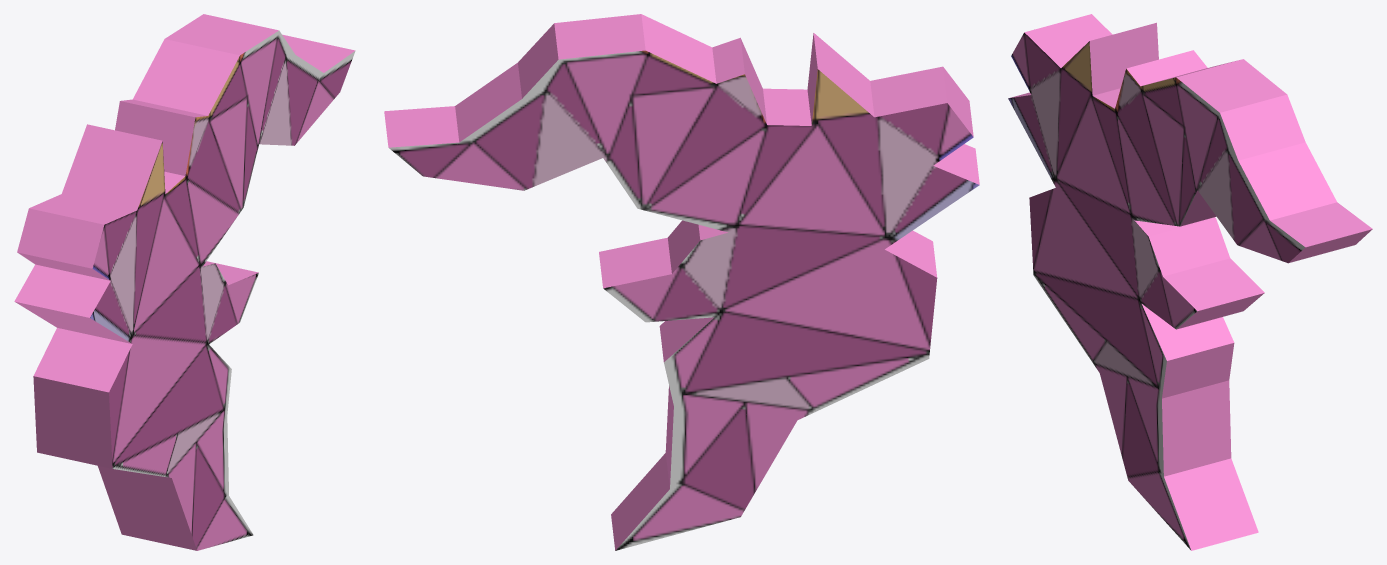
File: mosaicPink.FBX
The picture shows the model from 3 angles, left to right: view 1: azimuth 30°, elevation 25°; view 2: azimuth 150°, elevation 25°; view 3: azimuth 270°, elevation 25°; orthographic projection. The views are drawn at different scales.
Visible parts, largest first — view 1: Line004; view 2: Line004; view 3: Line004.
Boxes of the visible parts, x1,y1,x2,y2 form: Line004: (14, 14, 355, 550); Line004: (384, 14, 979, 550); Line004: (1008, 14, 1372, 550).
Bounding box in the file's own units: 14.13 × 14.32 × 10.21.
